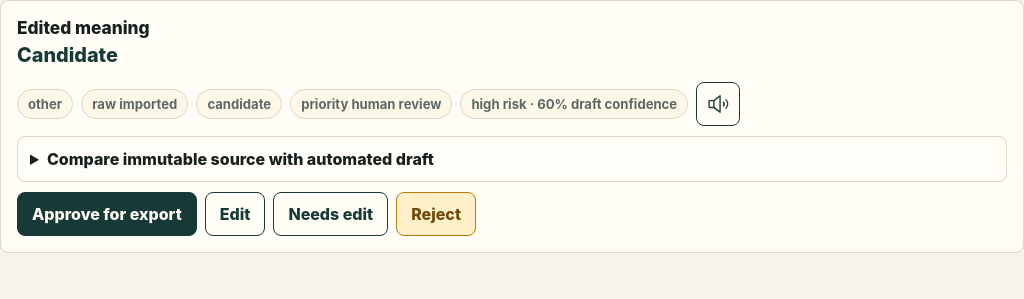
Test: keeps a failed approval undecided, then retries without losing existing edits
The image size is (1024, 299).
Click the button "Approve for export": (107, 214) x1=17 y1=192 x2=197 y2=236
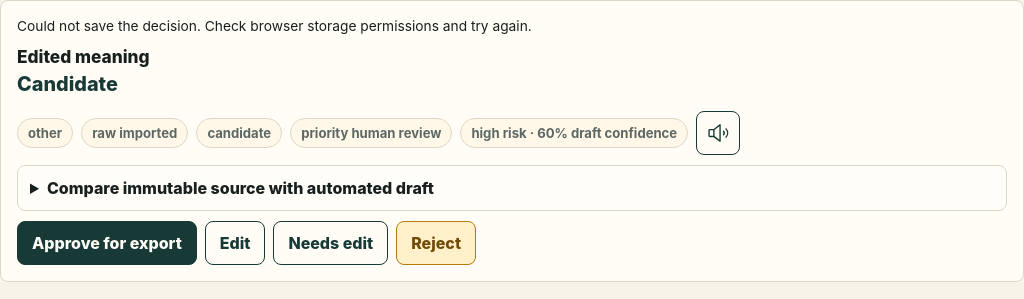
Check: the text "raw imported" is shown, box x1=81 y1=118 x2=188 y2=148
Check: the message shows "Could not save the decision", box x1=17 y1=18 x2=532 y2=34
Click the button "Approve for export": (107, 243) x1=17 y1=221 x2=197 y2=265
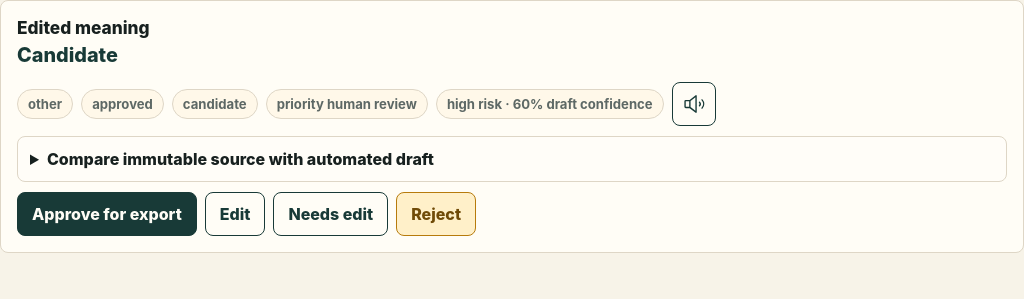
Check: the message "Could not save the decision. Check browser storage permissions and try again." is gone
Check: the text "approved" is shown, box x1=81 y1=89 x2=164 y2=119
